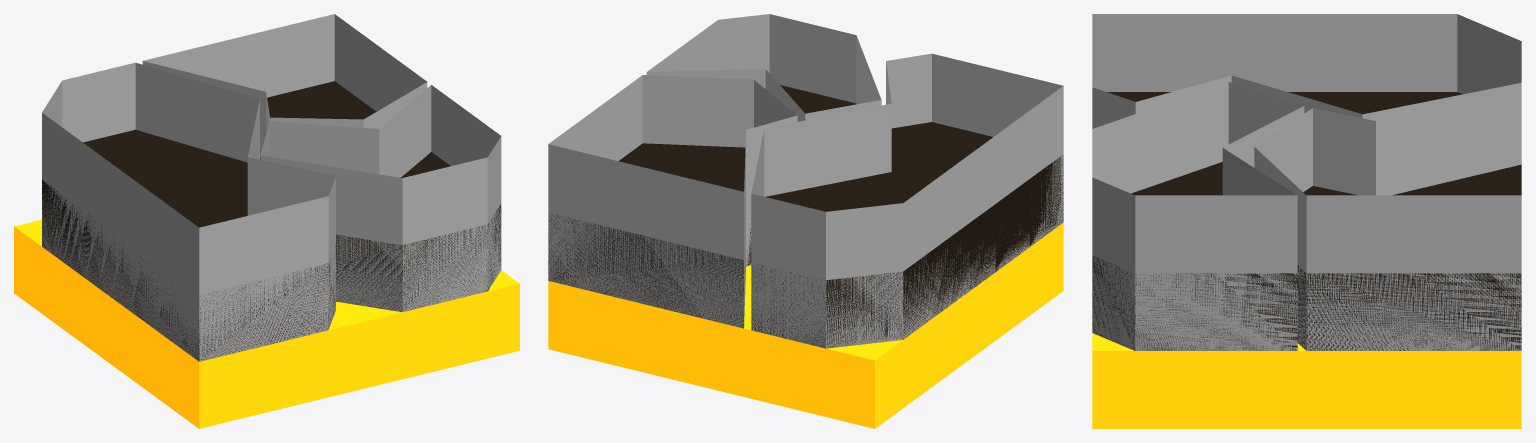
Rendered from FloorTile1.fbx.
3 views of the same model, side by side, from view 1: azimuth 30°, elevation 25°; view 2: azimuth 150°, elevation 25°; view 3: azimuth 270°, elevation 25° (orthographic). The views are drawn at different scales.
Visible parts, largest first — view 1: Flames, Lava, Rock; view 2: Flames, Rock, Lava; view 3: Flames, Lava, Rock.
Part boxes in pixels (bbox=[...]): Flames: bbox=[42, 14, 501, 361]; Lava: bbox=[14, 219, 519, 428]; Rock: bbox=[42, 81, 501, 361]; Flames: bbox=[548, 14, 1063, 348]; Rock: bbox=[548, 85, 1063, 347]; Lava: bbox=[548, 223, 1063, 428]; Flames: bbox=[1092, 14, 1521, 350]; Lava: bbox=[1092, 333, 1521, 428]; Rock: bbox=[1092, 92, 1521, 350].
Size of the model in its own units: 100 by 60 by 100.
